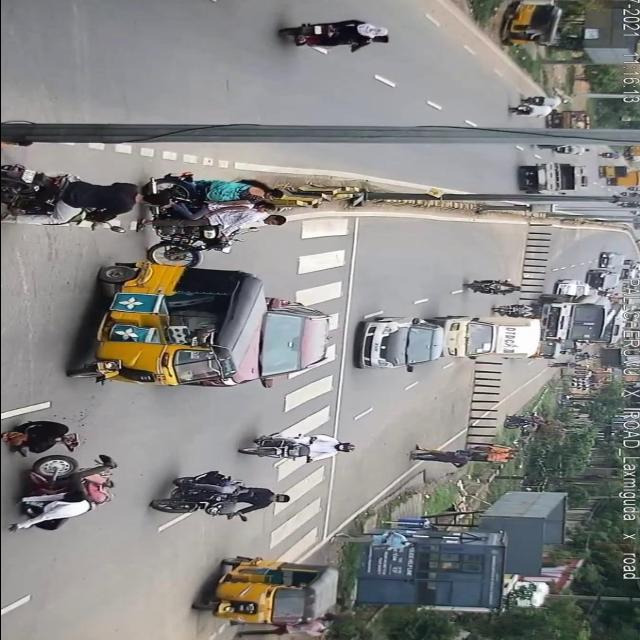accident: (0, 415, 134, 536)
non_accident: (354, 274, 614, 372), (578, 250, 624, 292), (587, 162, 640, 190)
